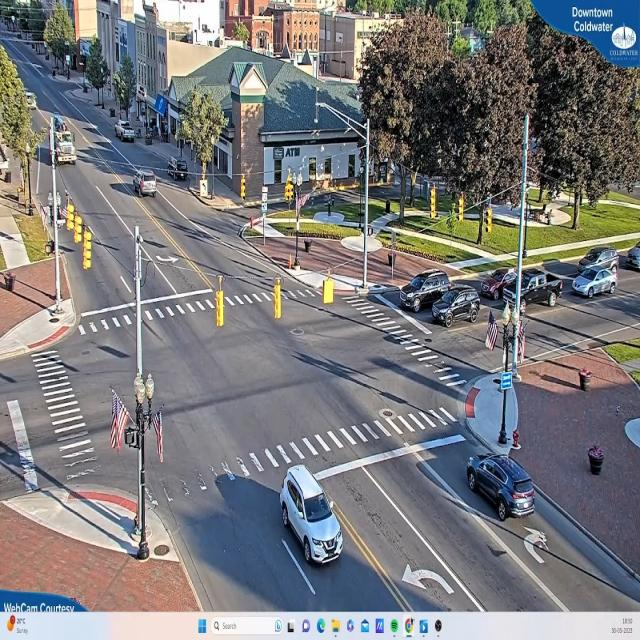car: (281, 466, 346, 567), (468, 455, 538, 522), (494, 271, 562, 308), (401, 272, 455, 314), (432, 289, 480, 327), (572, 268, 618, 299), (117, 122, 137, 144)
